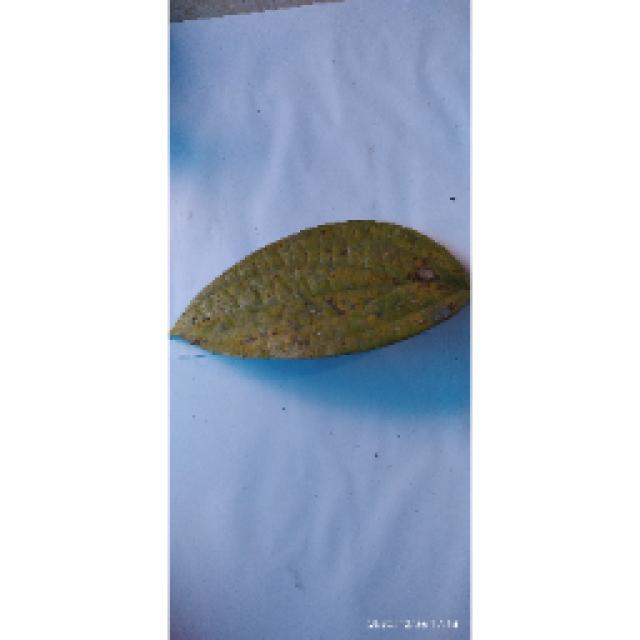slow-decline: (170, 218, 468, 358)
